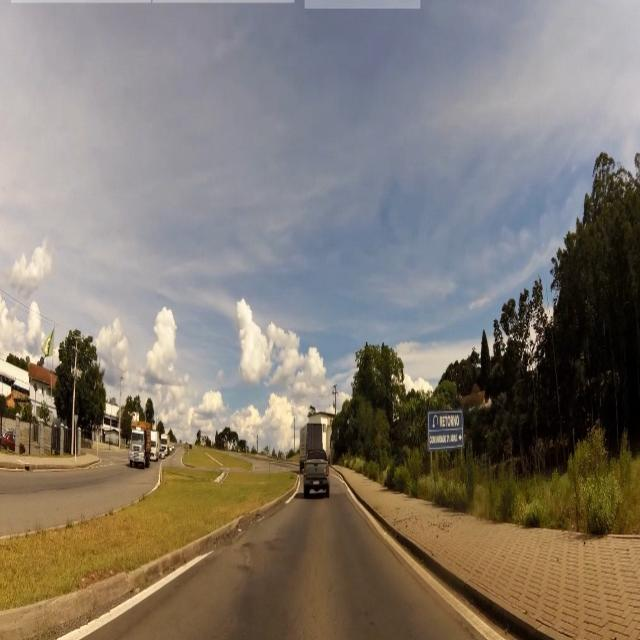LOC-6: (429, 411, 463, 450)
